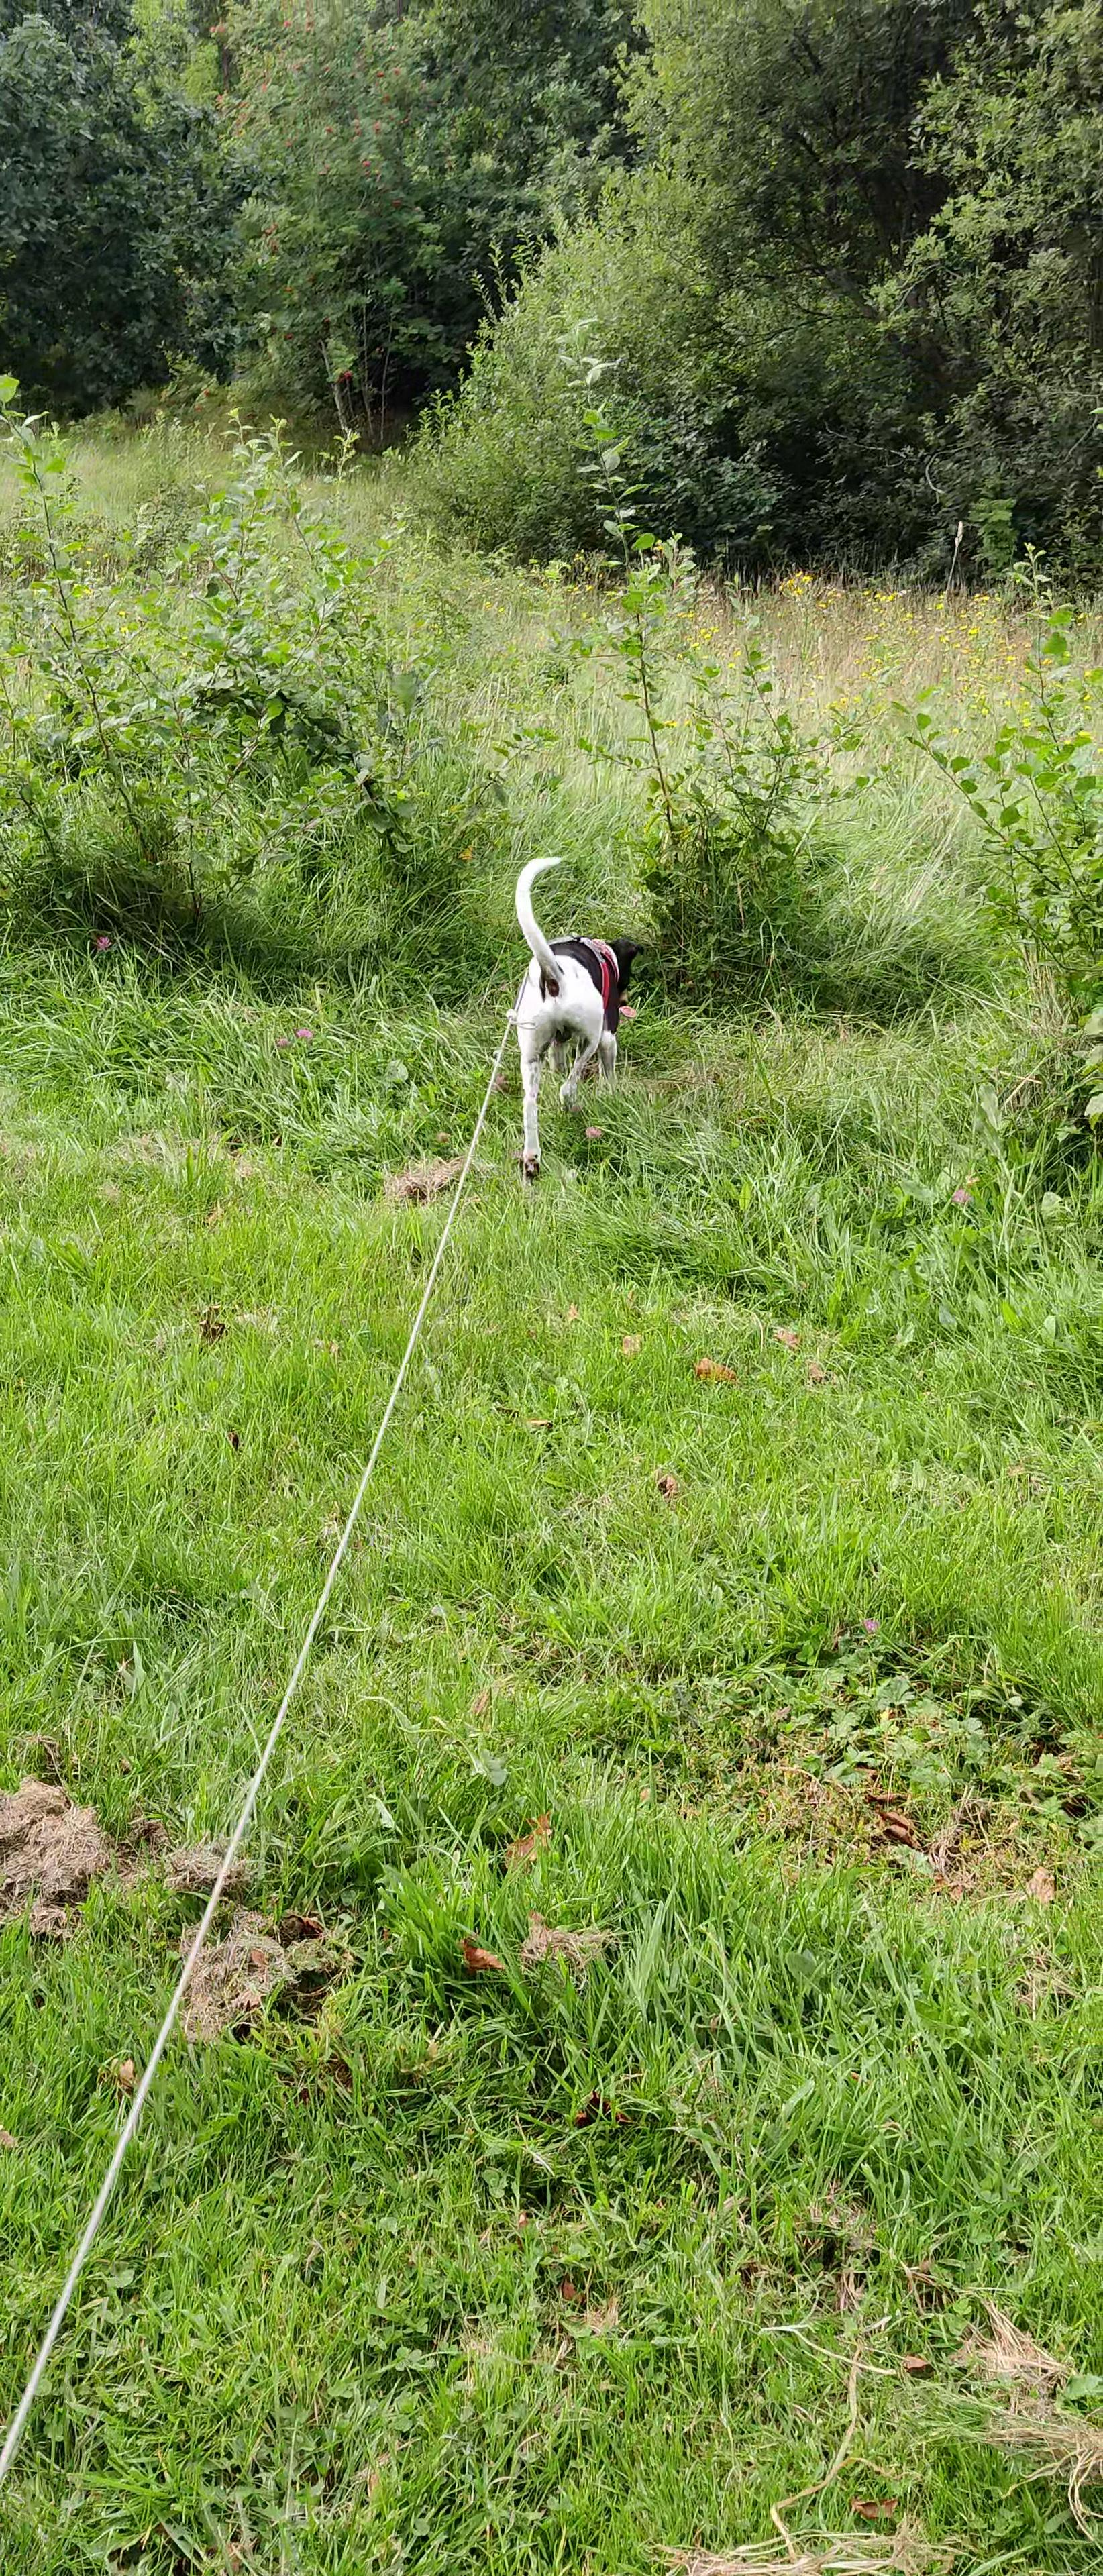Dog: (508, 854, 649, 1181)
